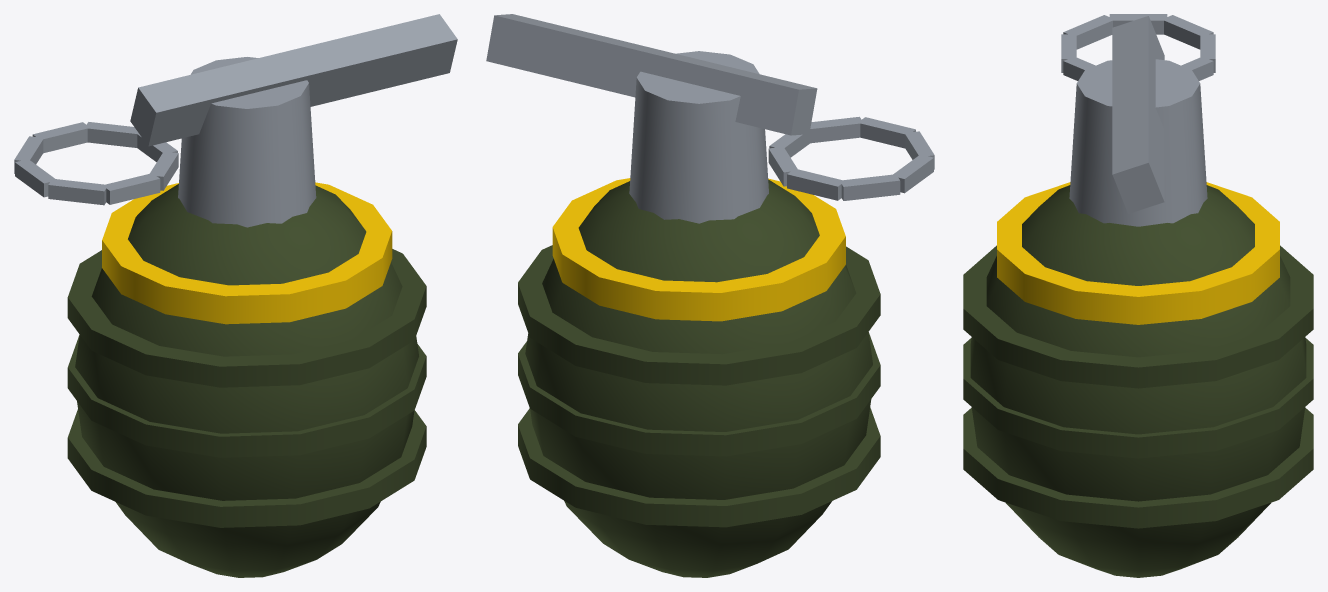
Rendered from Grenade.obj.
The picture shows the model from 3 angles, left to right: view 1: azimuth 30°, elevation 25°; view 2: azimuth 150°, elevation 25°; view 3: azimuth 270°, elevation 25°; orthographic projection.
Parts seen in each view (by area): view 1: Body, LeverBody, Fuse, Stripe, PinRing; view 2: Body, Fuse, Stripe, LeverBody, PinRing; view 3: Body, Stripe, Fuse, LeverBody, PinRing.
Part boxes in pixels (x1,y1,x2,y2): Body: (67, 184, 426, 577); LeverBody: (130, 14, 457, 146); Fuse: (178, 57, 316, 227); Stripe: (102, 182, 392, 324); PinRing: (14, 122, 178, 205); Body: (518, 179, 880, 577); Fuse: (629, 51, 768, 223); Stripe: (552, 178, 845, 321); LeverBody: (486, 14, 817, 135); PinRing: (768, 116, 934, 200); Body: (963, 185, 1313, 577); Stripe: (997, 182, 1279, 324); Fuse: (1069, 59, 1207, 226); LeverBody: (1112, 16, 1164, 213); PinRing: (1061, 14, 1215, 80).
Bounding box in the file's own units: 0.124 × 0.1424 × 0.0907.
